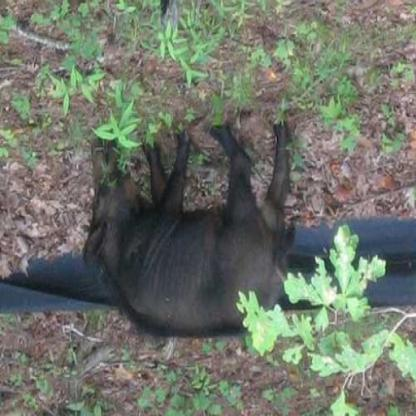boar: (76, 116, 301, 376)
